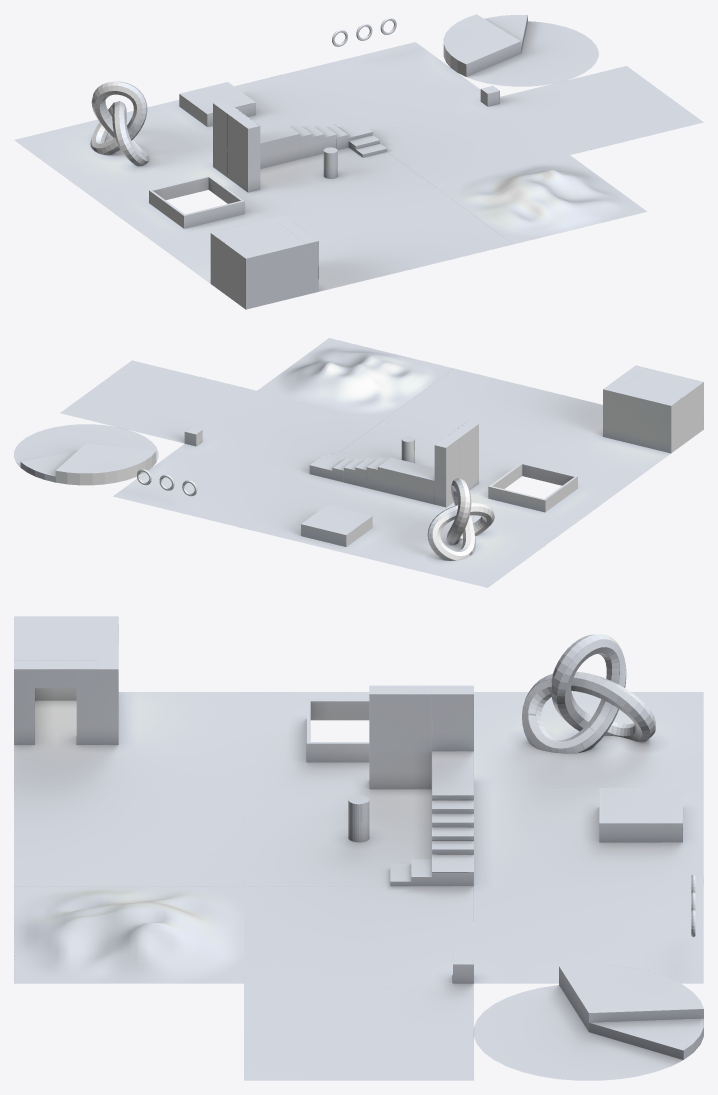
Rendered from world1.glb.
3 renders of one model, top to bottom at view 1: azimuth 30°, elevation 25°; view 2: azimuth 150°, elevation 25°; view 3: azimuth 270°, elevation 25°, orthographic. The views are drawn at different scales.
Parts seen in each view (by area): view 1: Plane.004; view 2: Plane.004; view 3: Plane.004.
Part boxes in pixels (x1,y1,x2,y2): Plane.004: [14, 14, 703, 309]; Plane.004: [14, 338, 703, 587]; Plane.004: [14, 616, 703, 1080].
Size of the model in its own units: 44.01 by 6.04 by 33.01.
1 material, 1 textured.
